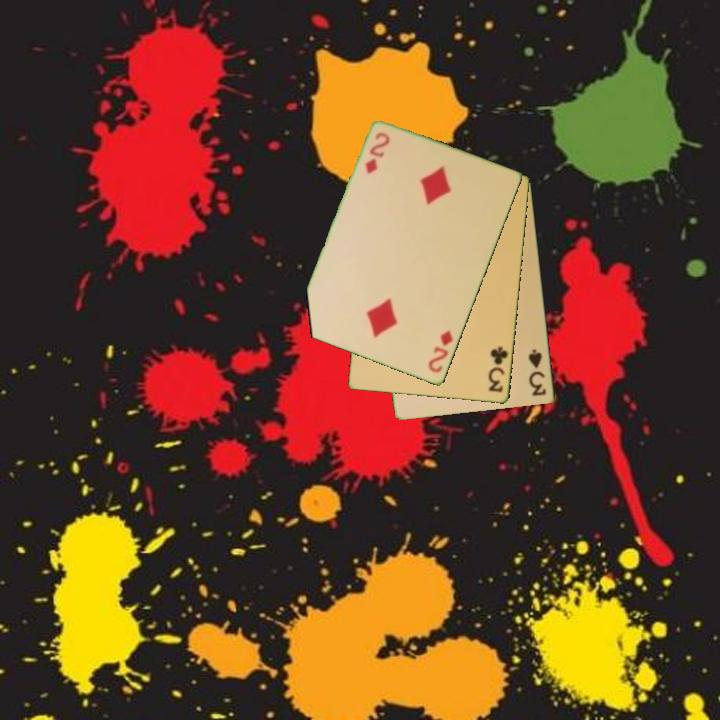2d: (425, 327, 456, 376), (362, 129, 393, 177)
3c: (485, 343, 511, 395)
3s: (525, 346, 549, 399)
